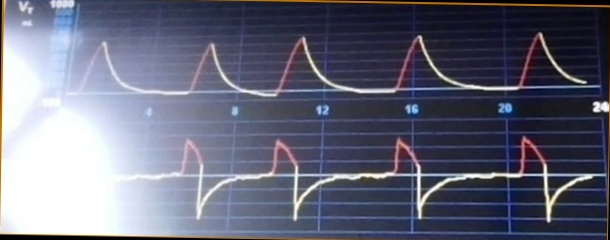Normal Flow: (88, 131, 590, 229)
Normal Volume: (69, 22, 584, 101)
